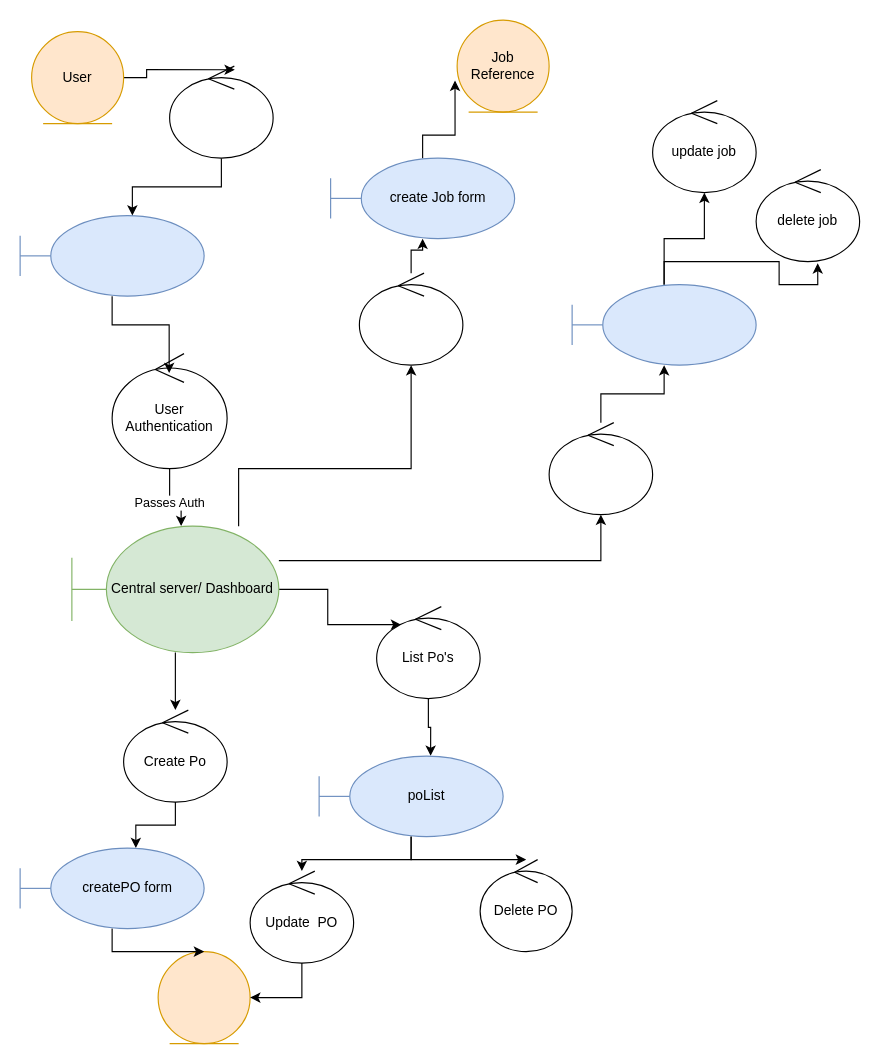
Some shapes in this 880 by 1064 pixel diagram are drawn without their labels. Each missing label, with the centre of its shape:
"create Job" goes at point 410,318.
"list Jobs" goes at point 600,468.
"list of jobs (jobList)" goes at point 663,324.
"Login (Email, user , password)" goes at point 220,111.
"Passport- Middleware" goes at point 111,255.
"Purchase Order" goes at point 203,997.
